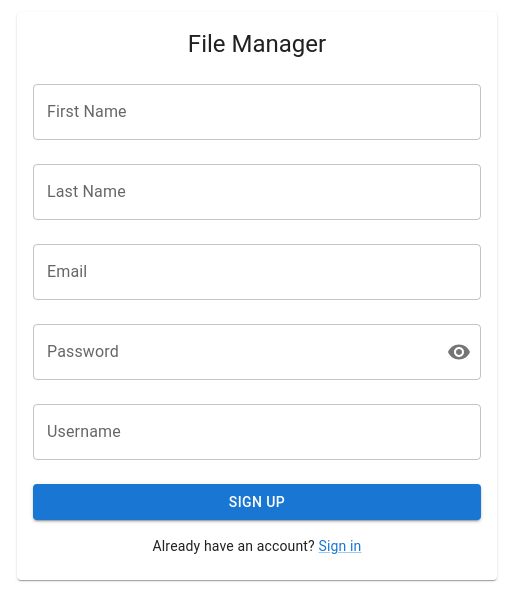
Test: successful sign-up moves to confirmation step
Type "Jane" into the field labelled "First Name".
click(257, 112); type("Jane")  # box x1=33 y1=84 x2=481 y2=140
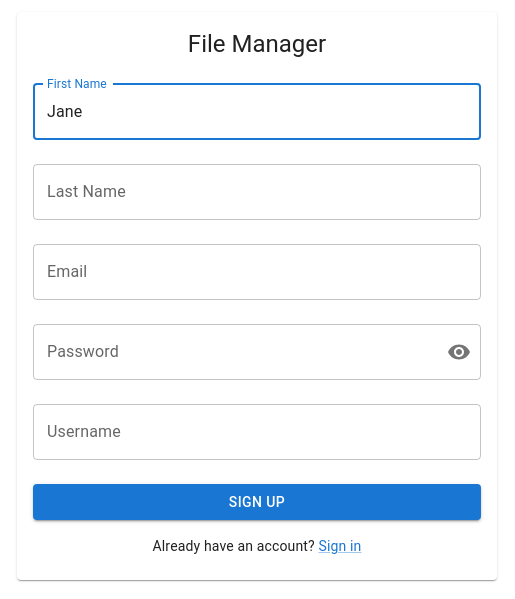
Type "Doe" into the field labelled "Last Name".
click(257, 192); type("Doe")  # box x1=33 y1=164 x2=481 y2=220
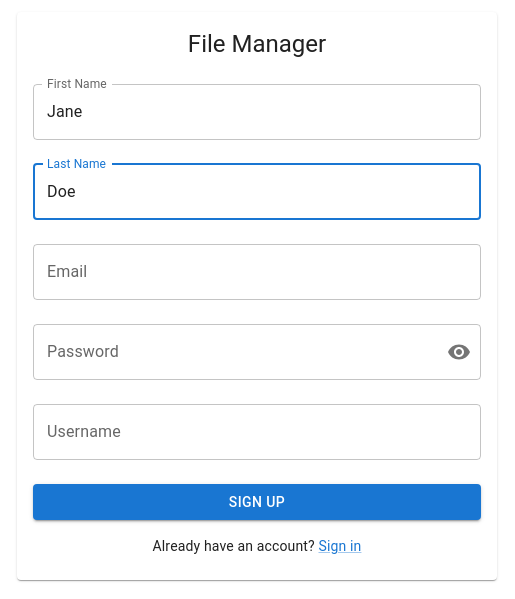
Type "jane@example.com" into the field labelled "Email".
click(257, 272); type("jane@example.com")  # box x1=33 y1=244 x2=481 y2=300
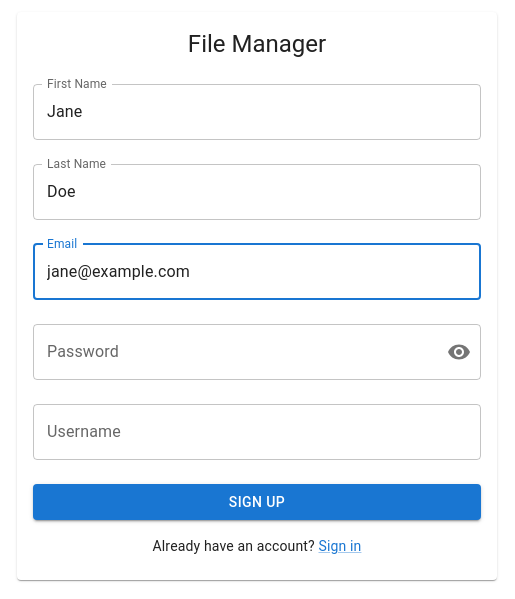
Type "Password123!" into the password field labelled "Password".
click(232, 352); type("Password123!")  # box x1=33 y1=324 x2=431 y2=380
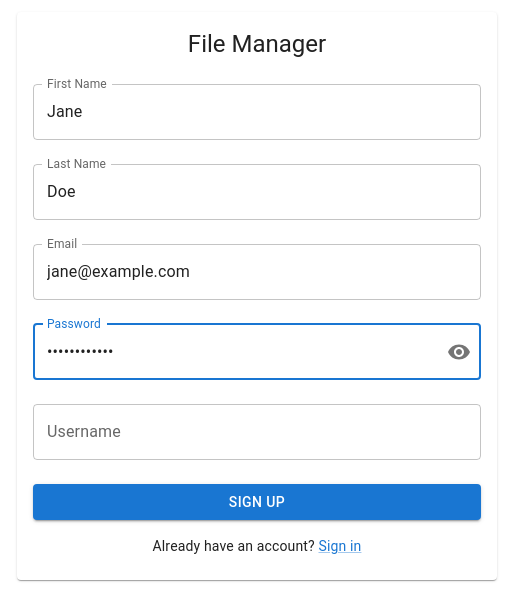
Type "janedoe" into the field labelled "Username".
click(257, 432); type("janedoe")  # box x1=33 y1=404 x2=481 y2=460
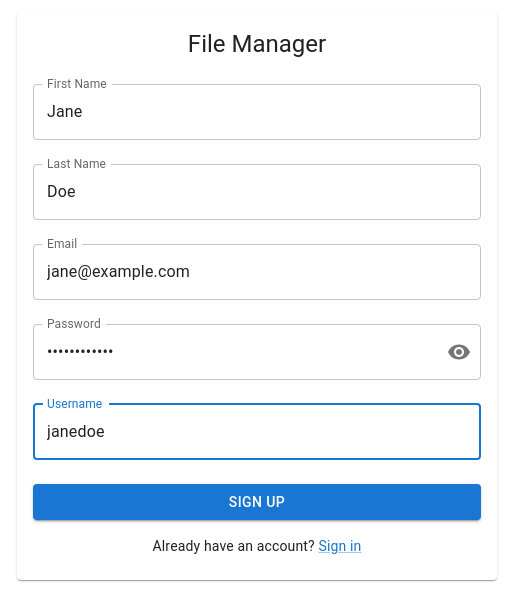
Click the button "Sign Up".
click(257, 502)  # box x1=33 y1=484 x2=481 y2=520
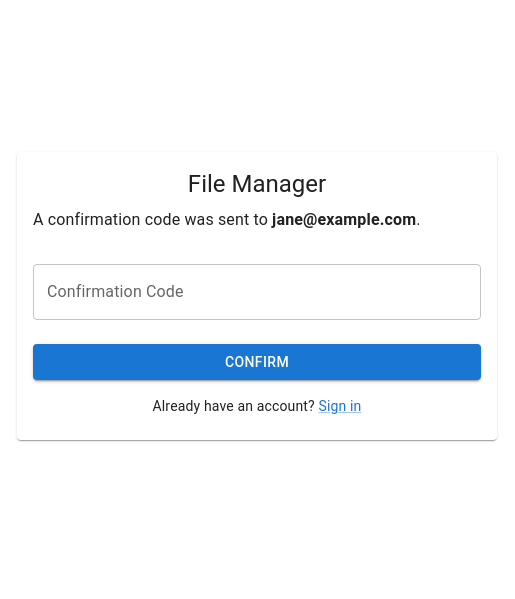
Expected: the field labelled "Confirmation Code" is shown, x1=33 y1=264 x2=481 y2=320
Expected: the button "Confirm" is shown, x1=33 y1=344 x2=481 y2=380
